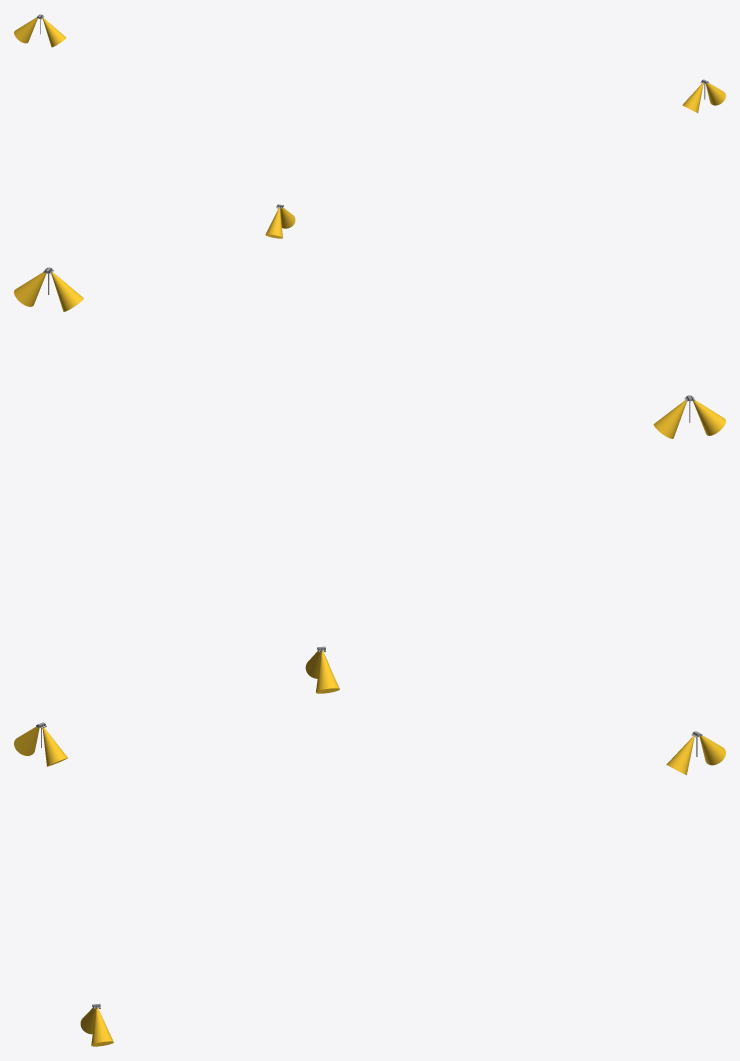
The model's file is streetLights.glb.
3 renders of one model, top to bottom at view 1: azimuth 30°, elevation 25°; view 2: azimuth 150°, elevation 25°; view 3: azimuth 270°, elevation 25°, orthographic. The views are drawn at different scales.
Parts seen in each view (by area): view 1: no part large enough to name; view 2: no part large enough to name; view 3: lightCone.002.
Boxes of the visible parts, box(x1,y1,x2,y2) form: lightCone.002: box(91, 1008, 113, 1046).
Size of the model in its own units: 1665 by 92.83 by 1634.
